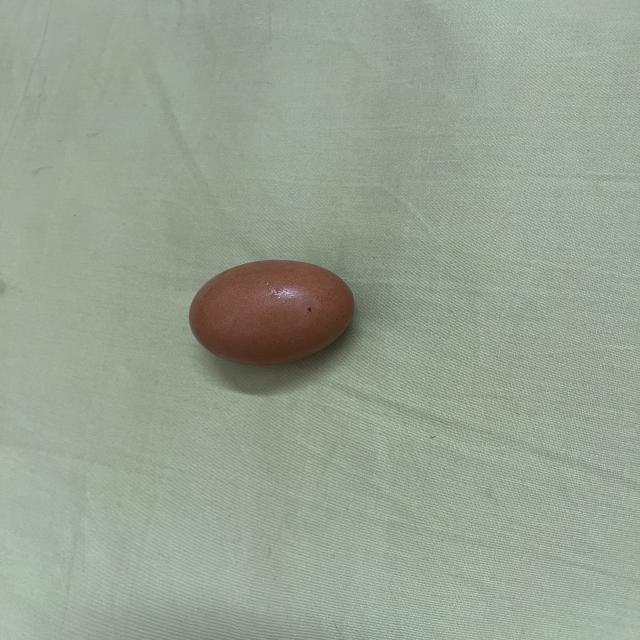egg: (179, 249, 361, 372)
